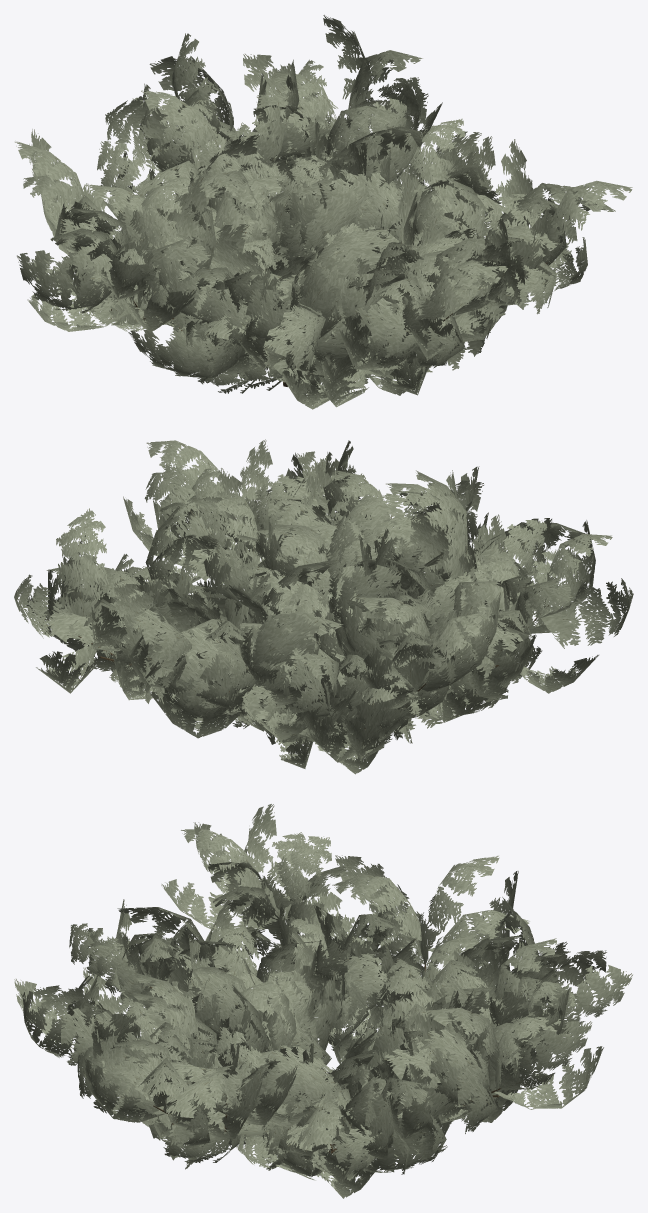
The model's file is SM_CN_Sage_C.glb.
The picture shows the model from 3 angles, top to bottom: view 1: azimuth 30°, elevation 25°; view 2: azimuth 150°, elevation 25°; view 3: azimuth 270°, elevation 25°; orthographic projection. The views are drawn at different scales.
Parts seen in each view (by area): view 1: SM_CN_Sage_C; view 2: SM_CN_Sage_C; view 3: SM_CN_Sage_C.
Boxes of the visible parts, x1,y1,x2,y2 form: SM_CN_Sage_C: [15, 15, 632, 409]; SM_CN_Sage_C: [14, 439, 633, 774]; SM_CN_Sage_C: [14, 804, 632, 1198].
Size of the model in its own units: 0.84 by 0.34 by 0.8206.
2 materials, 2 textured.
